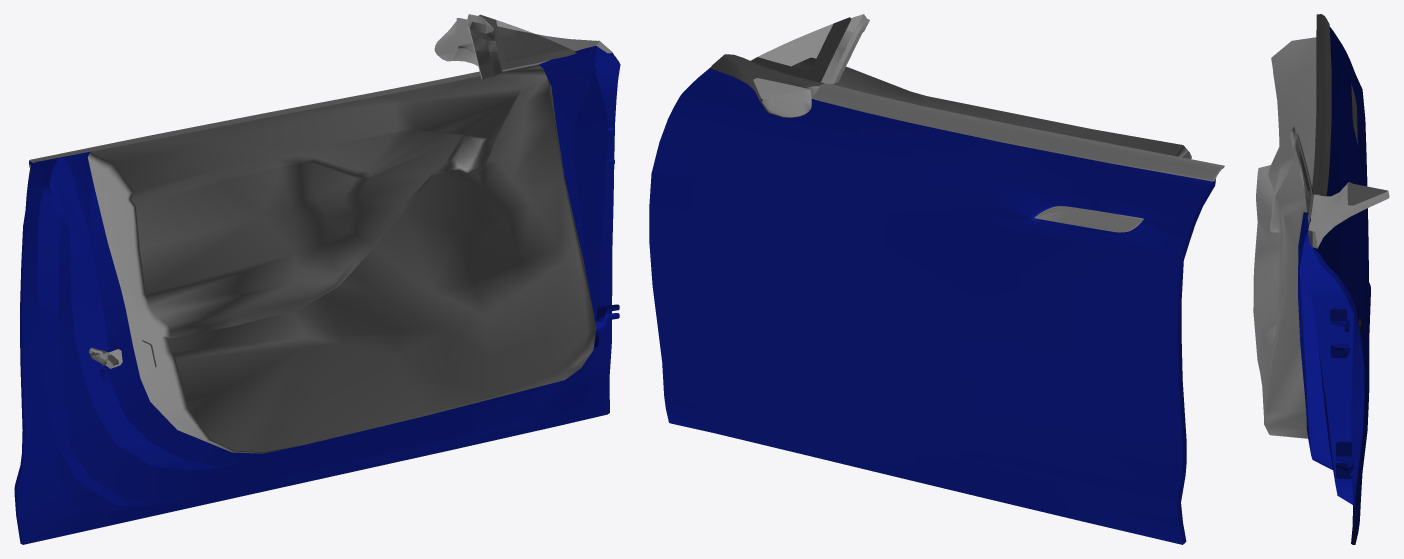
The model's file is Door_LF.obj.
3 views of the same model, side by side, from view 1: azimuth 30°, elevation 25°; view 2: azimuth 150°, elevation 25°; view 3: azimuth 270°, elevation 25° (orthographic). The views are drawn at different scales.
Visible parts, largest first — view 1: Door_LF; view 2: Door_LF; view 3: Door_LF.
Part boxes in pixels (box(x1,y1,x2,y2)): Door_LF: box(14, 14, 620, 544); Door_LF: box(649, 14, 1224, 544); Door_LF: box(1253, 14, 1389, 544).
Size of the model in its own units: 1.14 by 0.8433 by 0.2934.
